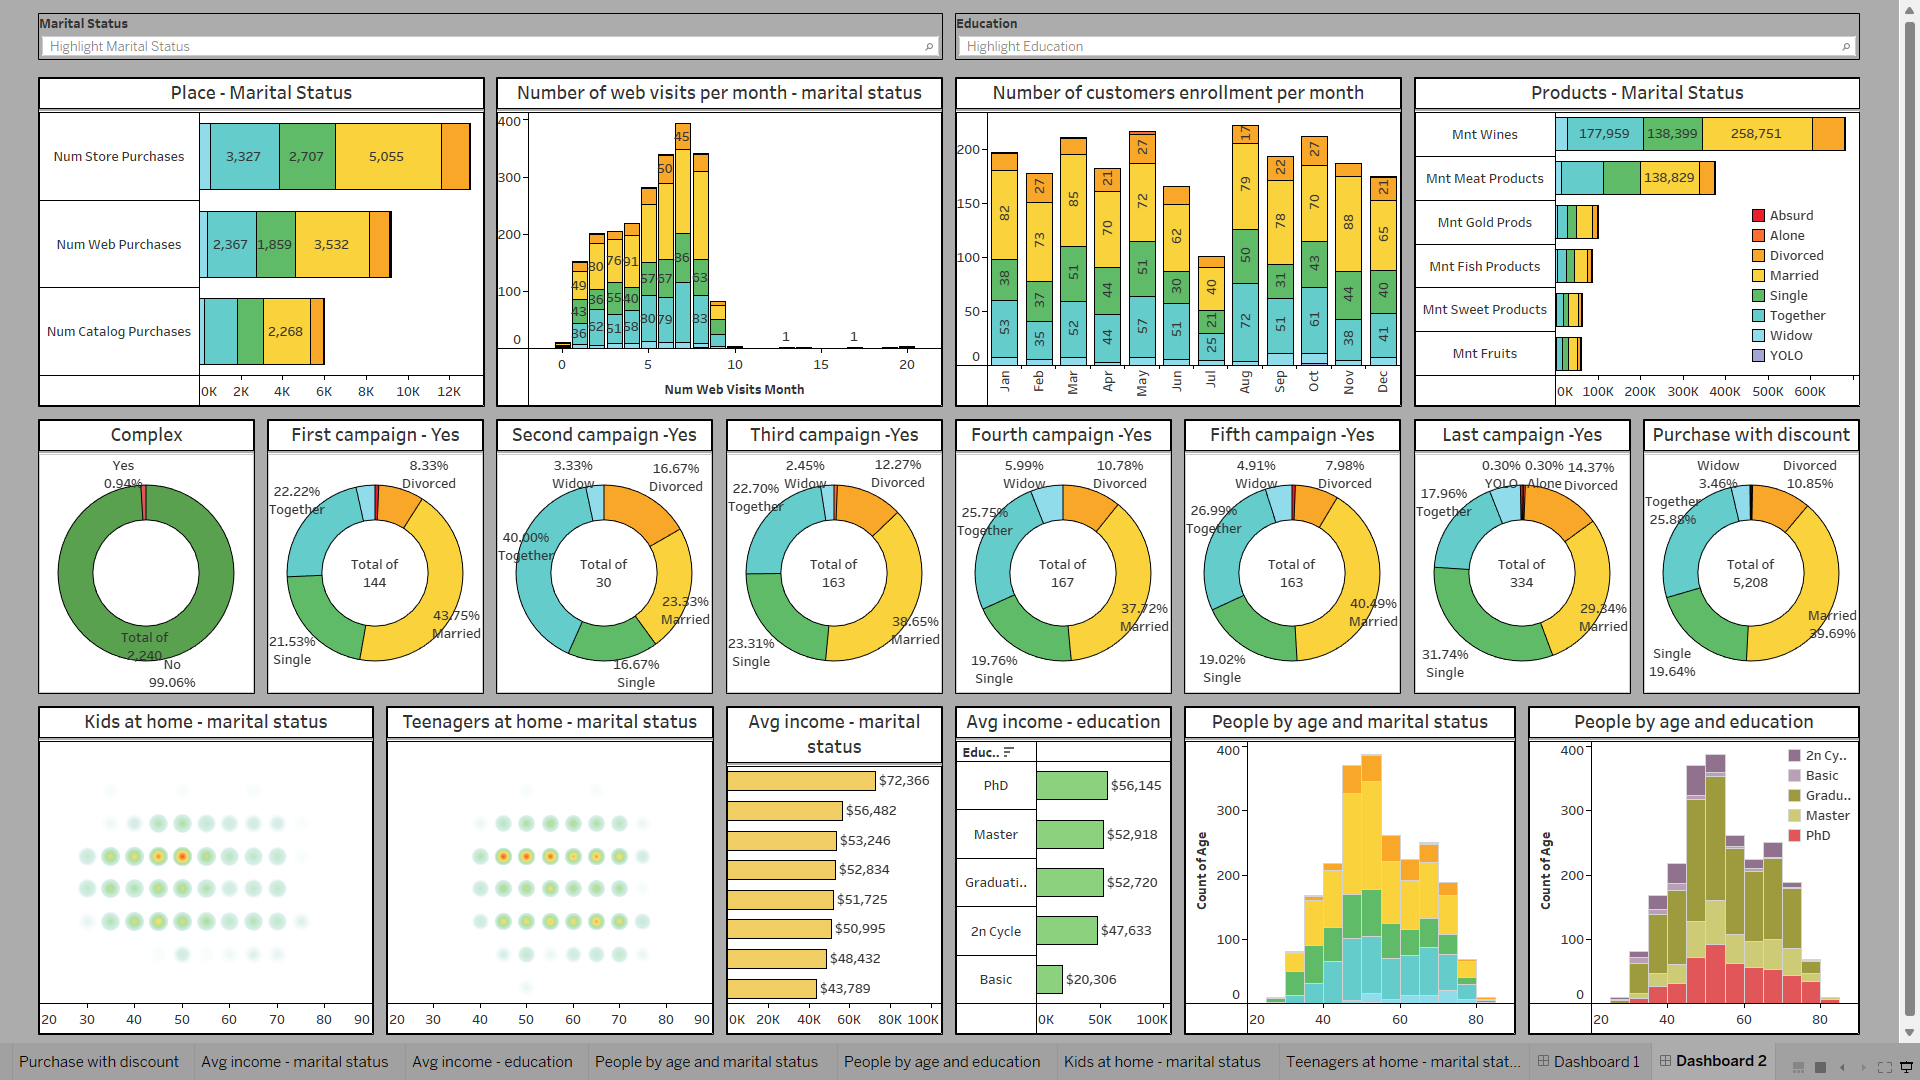

What the dashboard file says about the page in this screenshot:
{"tool":"tableau","page":{"name":"Dashboard 2","canvas":[1850,1050],"ordinal":1},"visuals":[{"type":"highlighter","title":"Place - Marital Status","param":"[federated.1ji5cvr06afofg13aah5p1n29ge8].[none:Marital_Status:nk]","box":[8,8,917,59]},{"type":"highlighter","title":"People by age and education","param":"[federated.1ji5cvr06afofg13aah5p1n29ge8].[none:Education:nk]","box":[925,8,917,59]},{"type":"worksheet","title":"Place - Marital Status","mark":"Automatic","box":[8,72,458.5,342]},{"type":"worksheet","title":"Number of web visits per month - marital status","mark":"Bar","rows":["ID"],"cols":["NumWebVisitsMonth"],"box":[466.5,72,458.5,342]},{"type":"worksheet","title":"Number of customers enrollment per month","mark":"Bar","rows":["ID"],"cols":["Dt_Customer"],"box":[925,72,458.5,342]},{"type":"worksheet","title":"Products - Marital Status","mark":"Bar","box":[1383.5,72,458.5,342]},{"type":"legend","title":"Place - Marital Status","param":"[federated.1ji5cvr06afofg13aah5p1n29ge8].[none:Marital_Status:nk]","box":[1724,206,110,164]},{"type":"worksheet","title":"Complex","mark":"Pie","rows":["Calculation_1702360723562647555","Calculation_1702360723562647555"],"box":[8,414,229.3,287]},{"type":"worksheet","title":"First campaign - Yes","mark":"Pie","rows":["Calculation_1702360723562647555","Calculation_1702360723562647555"],"box":[237.2,414,229.3,287]},{"type":"worksheet","title":"Second campaign -Yes","mark":"Pie","rows":["Calculation_1702360723562647555","Calculation_1702360723562647555"],"box":[466.5,414,229.3,287]},{"type":"worksheet","title":"Third campaign -Yes","mark":"Pie","rows":["Calculation_1702360723562647555","Calculation_1702360723562647555"],"box":[695.7,414,229.3,287]},{"type":"worksheet","title":"Fourth campaign -Yes ","mark":"Pie","rows":["Calculation_1702360723562647555","Calculation_1702360723562647555"],"box":[925,414,229.3,287]},{"type":"worksheet","title":"Fifth campaign -Yes","mark":"Pie","rows":["Calculation_1702360723562647555","Calculation_1702360723562647555"],"box":[1154.3,414,229.3,287]},{"type":"worksheet","title":"Last campaign -Yes","mark":"Pie","rows":["Calculation_1702360723562647555","Calculation_1702360723562647555"],"box":[1383.5,414,229.3,287]},{"type":"worksheet","title":"Purchase with discount","mark":"Pie","rows":["Calculation_1702360723562647555","Calculation_1702360723562647555"],"box":[1612.8,414,229.3,287]},{"type":"worksheet","title":"Kids at home - marital status","mark":"Heatmap","rows":["Marital_Status"],"cols":["Age (bin)"],"box":[8,701,348,341]},{"type":"worksheet","title":"Teenagers at home - marital status","mark":"Heatmap","rows":["Marital_Status"],"cols":["Age (bin)"],"box":[356,701,339.8,341]},{"type":"worksheet","title":"Avg income - marital status","mark":"Bar","rows":["Marital_Status"],"cols":["Income"],"box":[695.7,701,229.3,341]},{"type":"worksheet","title":"Avg income - education","mark":"Bar","rows":["Education"],"cols":["Income"],"box":[925,701,229.3,341]},{"type":"worksheet","title":"People by age and marital status","mark":"Automatic","rows":["Calculation_1702360723568152581"],"cols":["Age (bin)"],"box":[1154.3,701,343.9,341]},{"type":"worksheet","title":"People by age and education","mark":"Automatic","rows":["Calculation_1702360723568152581"],"cols":["Age (bin)"],"box":[1498.1,701,343.9,341]},{"type":"legend","title":"People by age and education","param":"[federated.1ji5cvr06afofg13aah5p1n29ge8].[none:Education:nk]","box":[1760,746,73,104]}]}

Visuals, with their boxes on the page's 1850x1050 design canvas (x1, y1, x2, y2). These are canvas units, not pixel positions in the 1920x1080 screenshot, which may show the page scaled, cropped or inside an application window:
"Place - Marital Status" highlighter: x1=8, y1=8, x2=925, y2=67
"People by age and education" highlighter: x1=925, y1=8, x2=1842, y2=67
"Place - Marital Status" worksheet: x1=8, y1=72, x2=466, y2=414
"Number of web visits per month - marital status" worksheet (Bar marks): x1=466, y1=72, x2=925, y2=414
"Number of customers enrollment per month" worksheet (Bar marks): x1=925, y1=72, x2=1384, y2=414
"Products - Marital Status" worksheet (Bar marks): x1=1384, y1=72, x2=1842, y2=414
"Place - Marital Status" legend: x1=1724, y1=206, x2=1834, y2=370
"Complex" worksheet (Pie marks): x1=8, y1=414, x2=237, y2=701
"First campaign - Yes" worksheet (Pie marks): x1=237, y1=414, x2=466, y2=701
"Second campaign -Yes" worksheet (Pie marks): x1=466, y1=414, x2=696, y2=701
"Third campaign -Yes" worksheet (Pie marks): x1=696, y1=414, x2=925, y2=701
"Fourth campaign -Yes " worksheet (Pie marks): x1=925, y1=414, x2=1154, y2=701
"Fifth campaign -Yes" worksheet (Pie marks): x1=1154, y1=414, x2=1384, y2=701
"Last campaign -Yes" worksheet (Pie marks): x1=1384, y1=414, x2=1613, y2=701
"Purchase with discount" worksheet (Pie marks): x1=1613, y1=414, x2=1842, y2=701
"Kids at home - marital status" worksheet (Heatmap marks): x1=8, y1=701, x2=356, y2=1042
"Teenagers at home - marital status" worksheet (Heatmap marks): x1=356, y1=701, x2=696, y2=1042
"Avg income - marital status" worksheet (Bar marks): x1=696, y1=701, x2=925, y2=1042
"Avg income - education" worksheet (Bar marks): x1=925, y1=701, x2=1154, y2=1042
"People by age and marital status" worksheet: x1=1154, y1=701, x2=1498, y2=1042
"People by age and education" worksheet: x1=1498, y1=701, x2=1842, y2=1042
"People by age and education" legend: x1=1760, y1=746, x2=1833, y2=850
